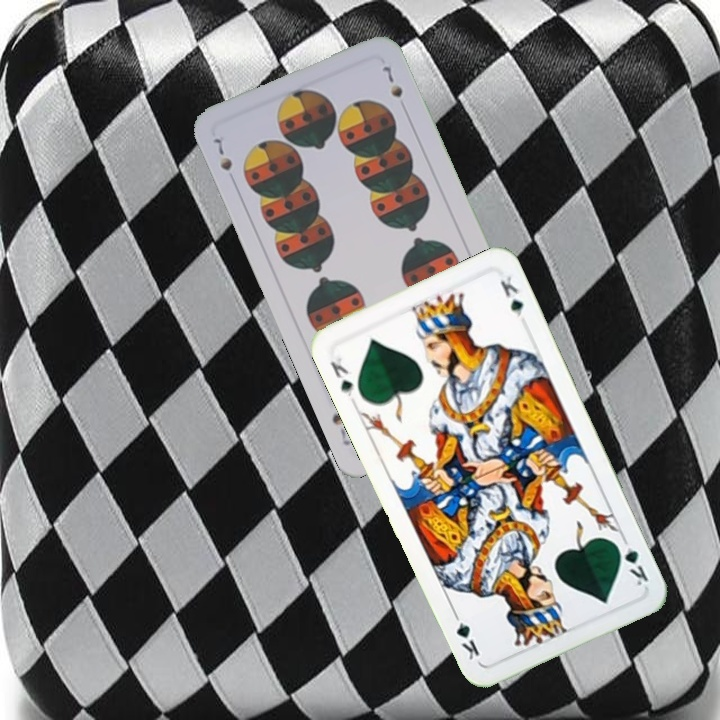GK: (611, 533, 651, 589), (326, 353, 356, 400)
S7: (209, 131, 235, 174)
